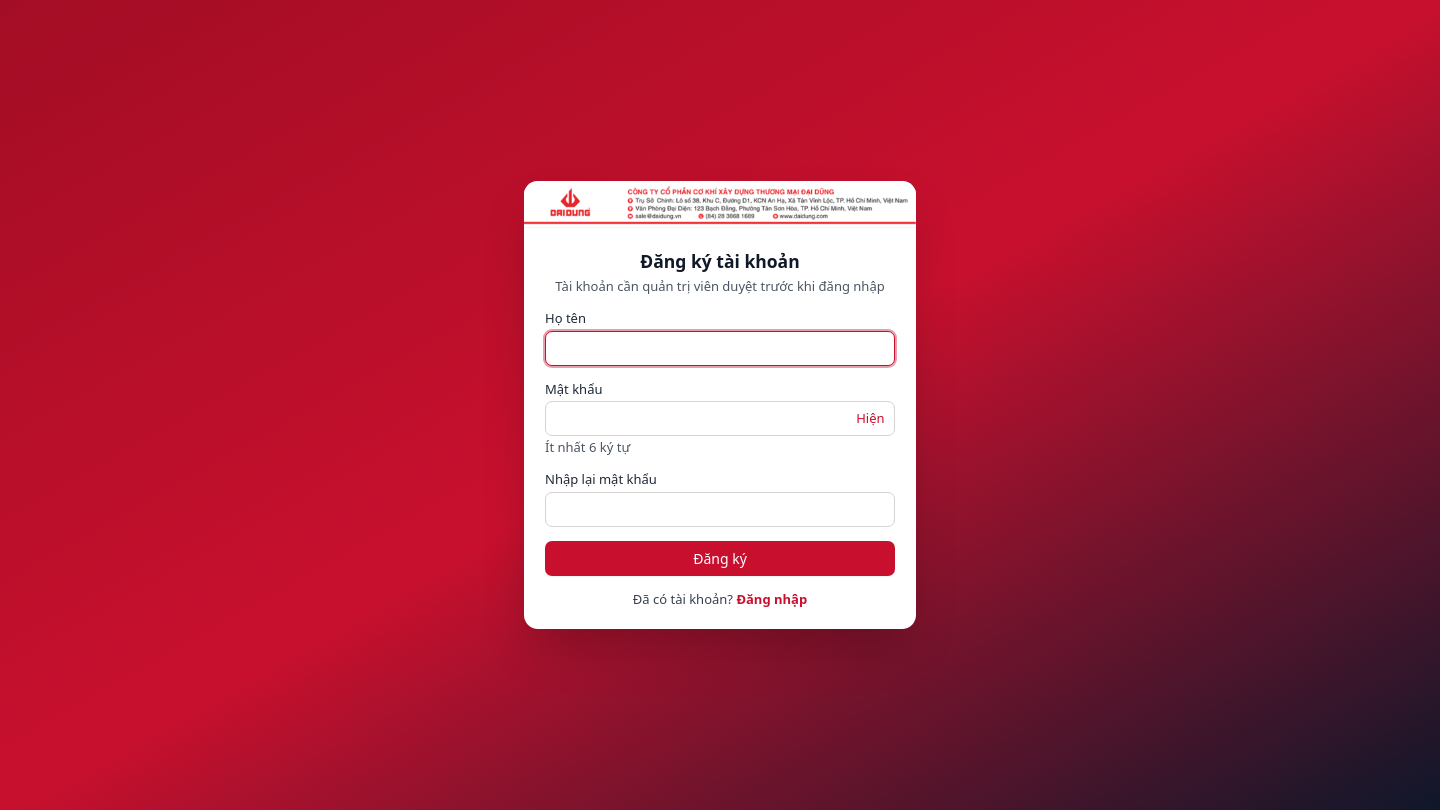
Test: RegisterPage (D-015) › hợp lệ → gọi register đúng body (kèm honeypot rỗng) và hiện tên đăng nhập máy chủ trả về
The width and height of the screenshot is (1440, 810).
Type "  Lê Thái Bão " into the field with test id "register-fullname" at point(720, 348), box [545,331,895,366]
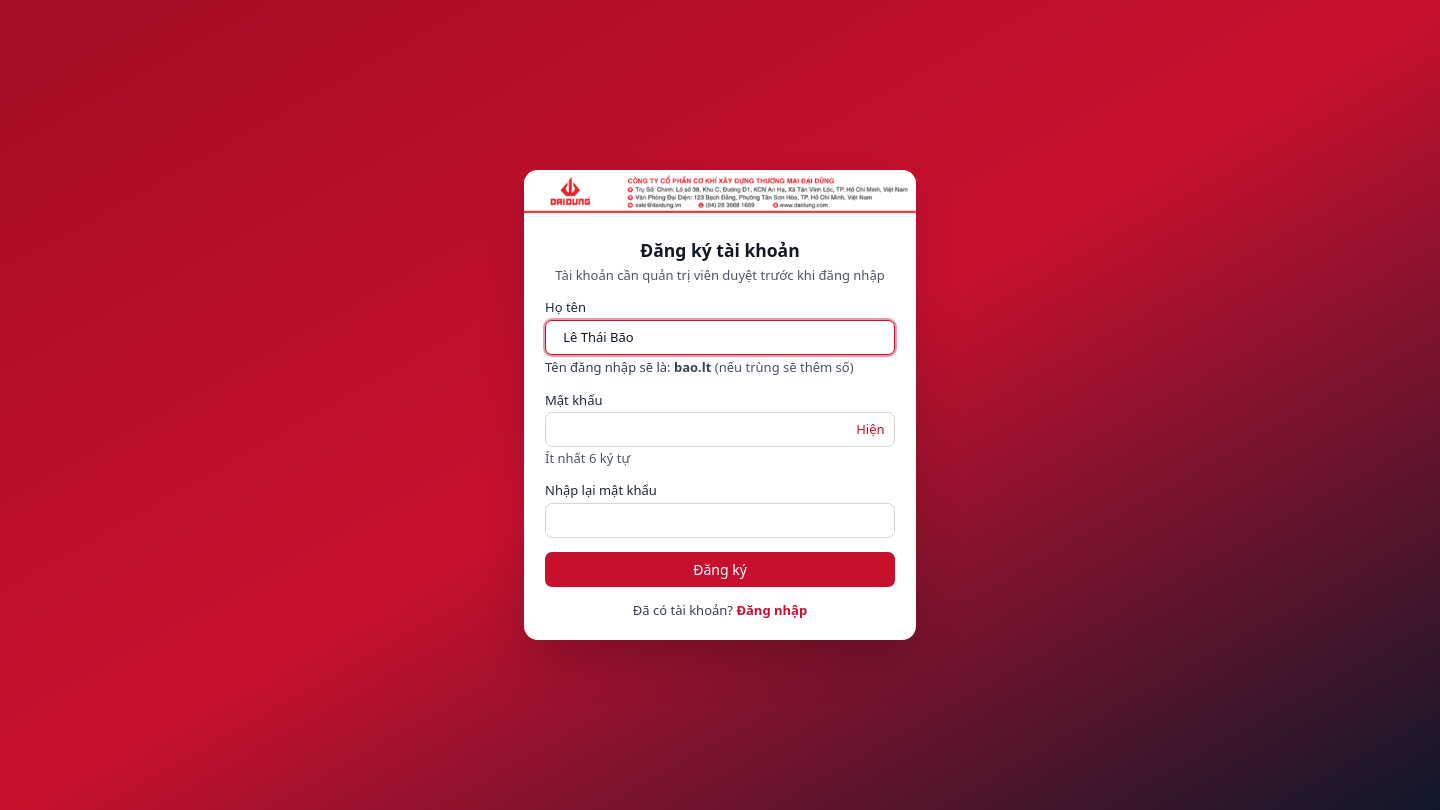
Type "matkhau123" into the password field with test id "register-password" at point(720, 430), box [545,412,895,447]
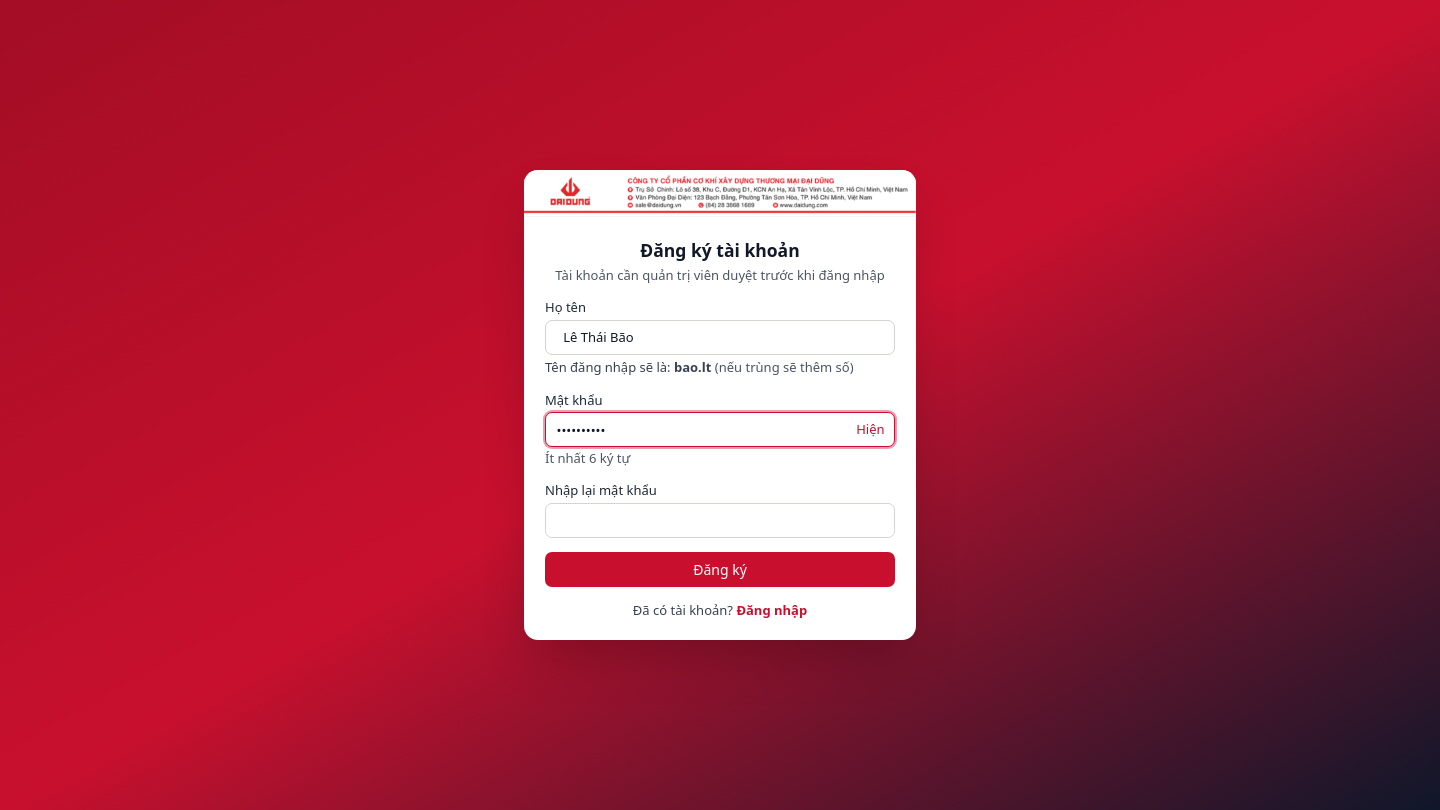
Type "matkhau123" into the password field with test id "register-confirm" at point(720, 520), box [545,503,895,538]
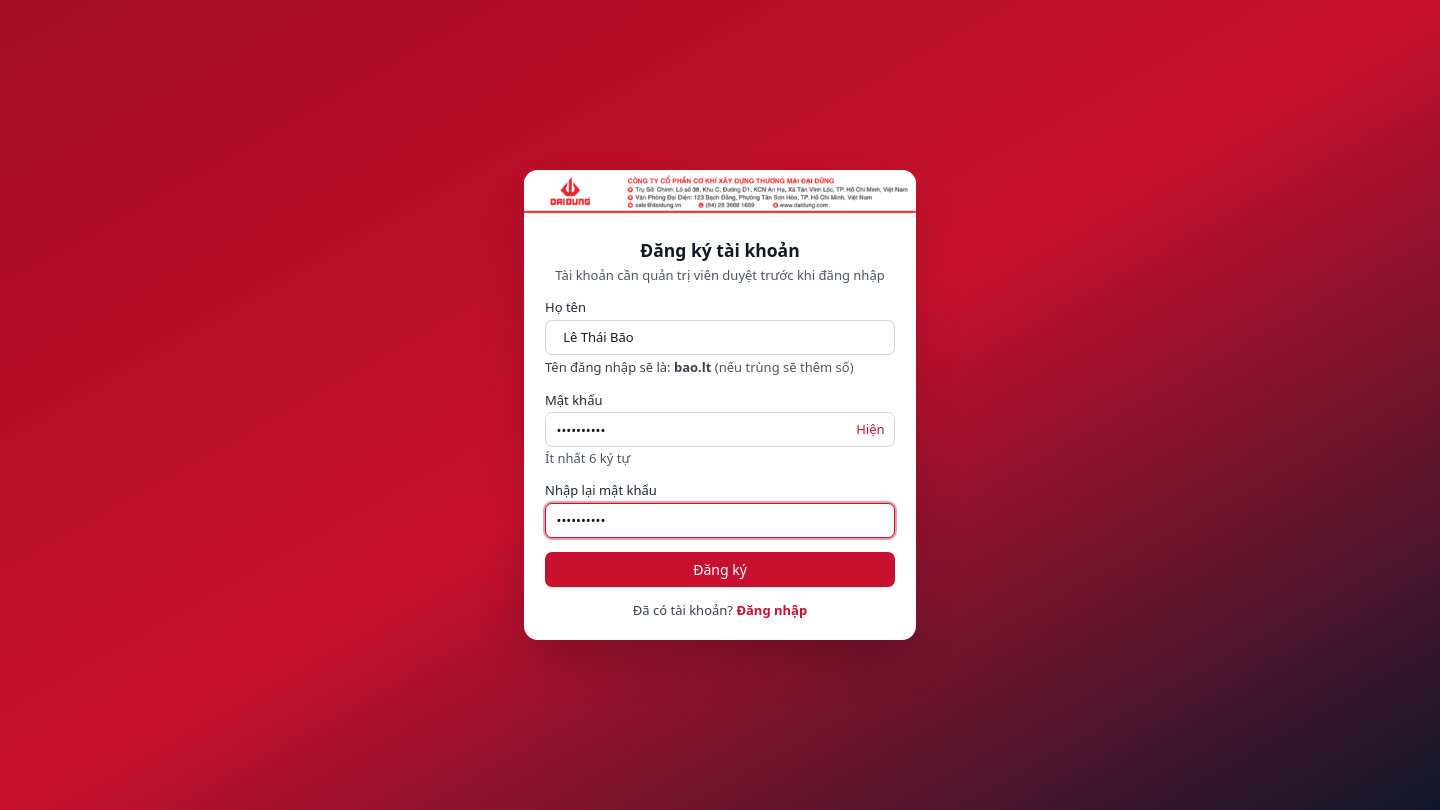
Click the button with test id "register-submit" at point(720, 569), box [545,552,895,587]
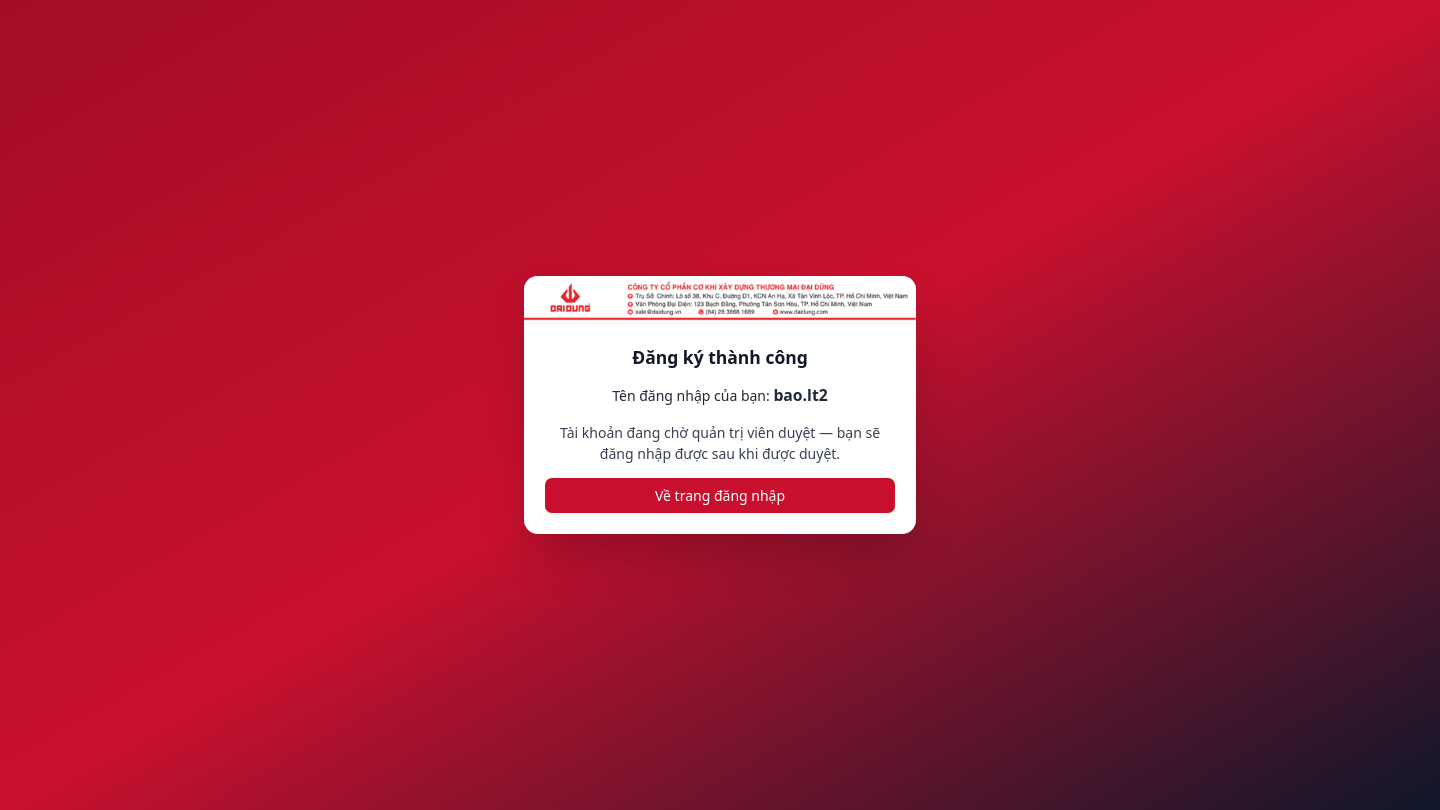
expect the text with test id "register-username" reads "bao.lt2": met, box [773,384,828,406]
expect the element with test id "register-success" shows "chờ quản trị viên duyệt": met, box [560,422,880,462]
